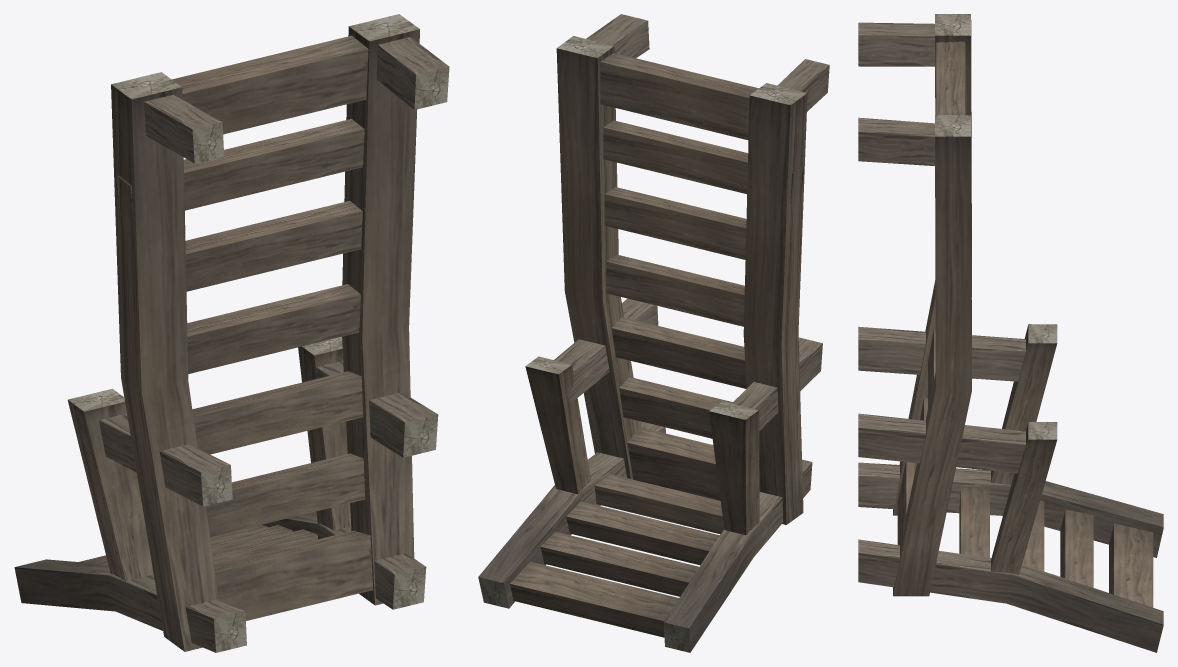
The model's file is LongChair_Type_02_A.fbx.
The picture shows the model from 3 angles, left to right: view 1: azimuth 30°, elevation 25°; view 2: azimuth 150°, elevation 25°; view 3: azimuth 270°, elevation 25°; orthographic projection. The views are drawn at different scales.
Parts seen in each view (by area): view 1: LongChair_Type_02_A; view 2: LongChair_Type_02_A; view 3: LongChair_Type_02_A.
Boxes of the visible parts, bbox=[...] form: LongChair_Type_02_A: bbox=[14, 14, 449, 652]; LongChair_Type_02_A: bbox=[478, 14, 829, 652]; LongChair_Type_02_A: bbox=[858, 14, 1163, 652].
Bounding box in the file's own units: 1.12 × 2.24 × 1.18.
